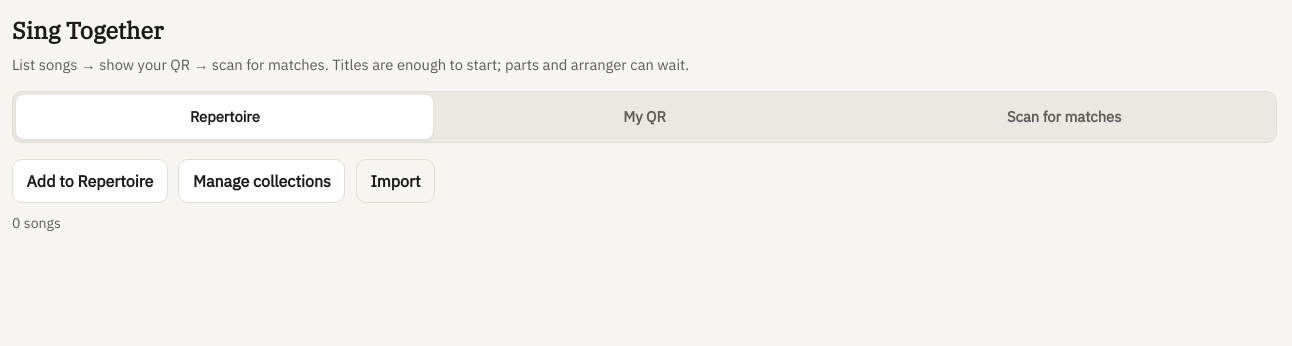
Test: SingTogetherView usability phases › shows Add to Repertoire and an Import submenu (clipboard + CSV)
Click the button "Import": (396,181) x1=356 y1=159 x2=435 y2=203
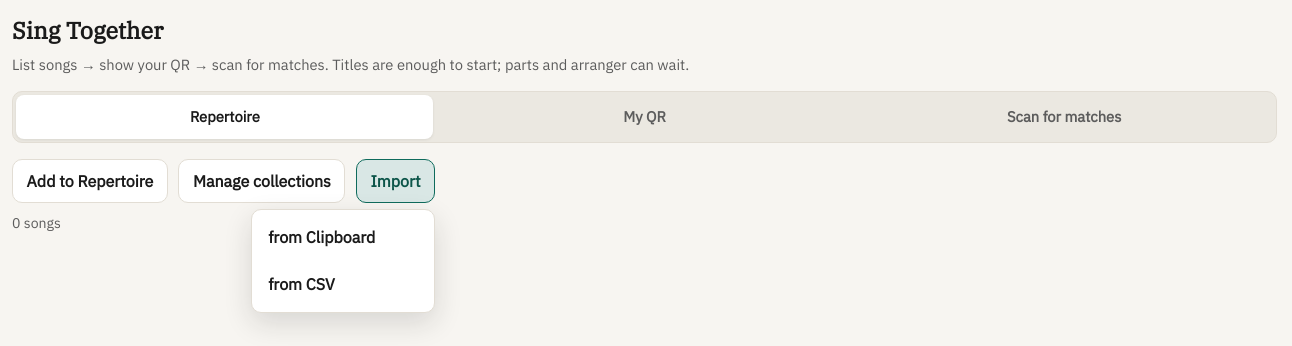
Now the menu with id "repertoire-import-menu" is shown, box x1=251 y1=209 x2=435 y2=313
